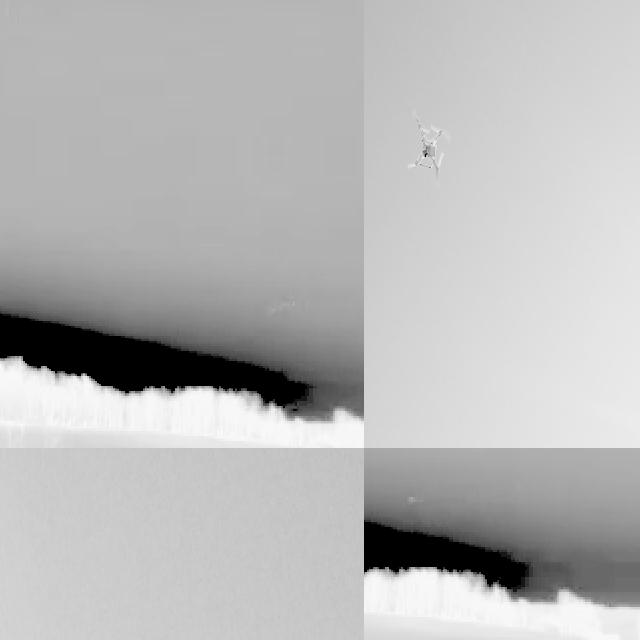0: (397, 485, 427, 517), (261, 298, 289, 328)
drone: (406, 106, 451, 180)
